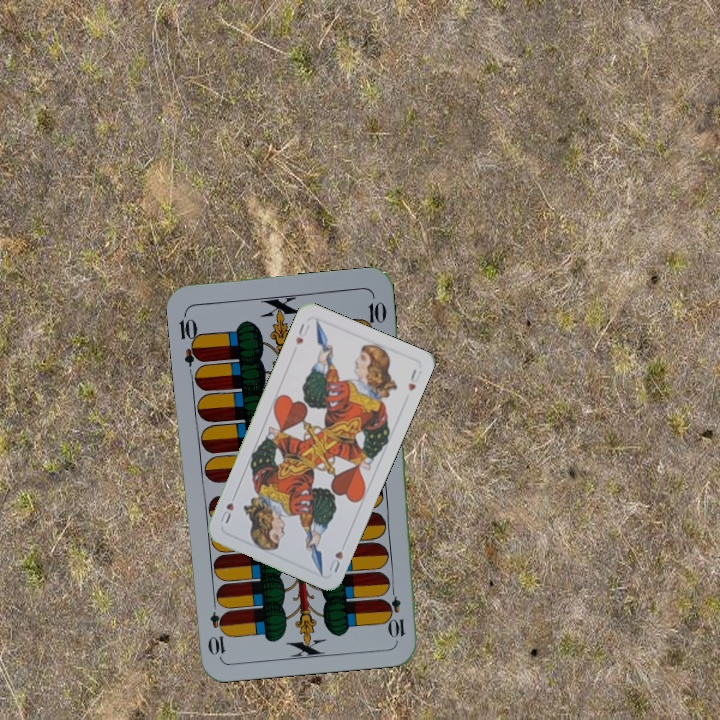E10: (175, 309, 205, 368), (385, 581, 407, 640)
HU: (324, 547, 346, 575), (291, 319, 312, 348)
